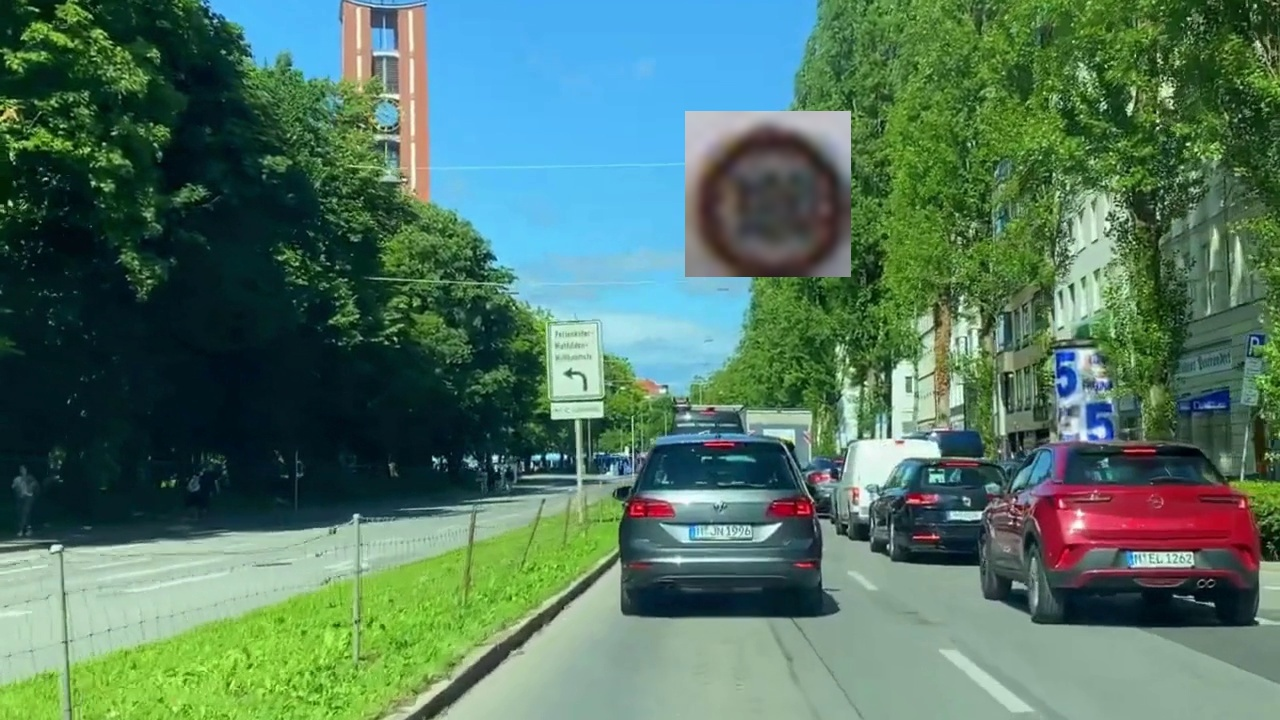Speed 100: (685, 111, 851, 277)
